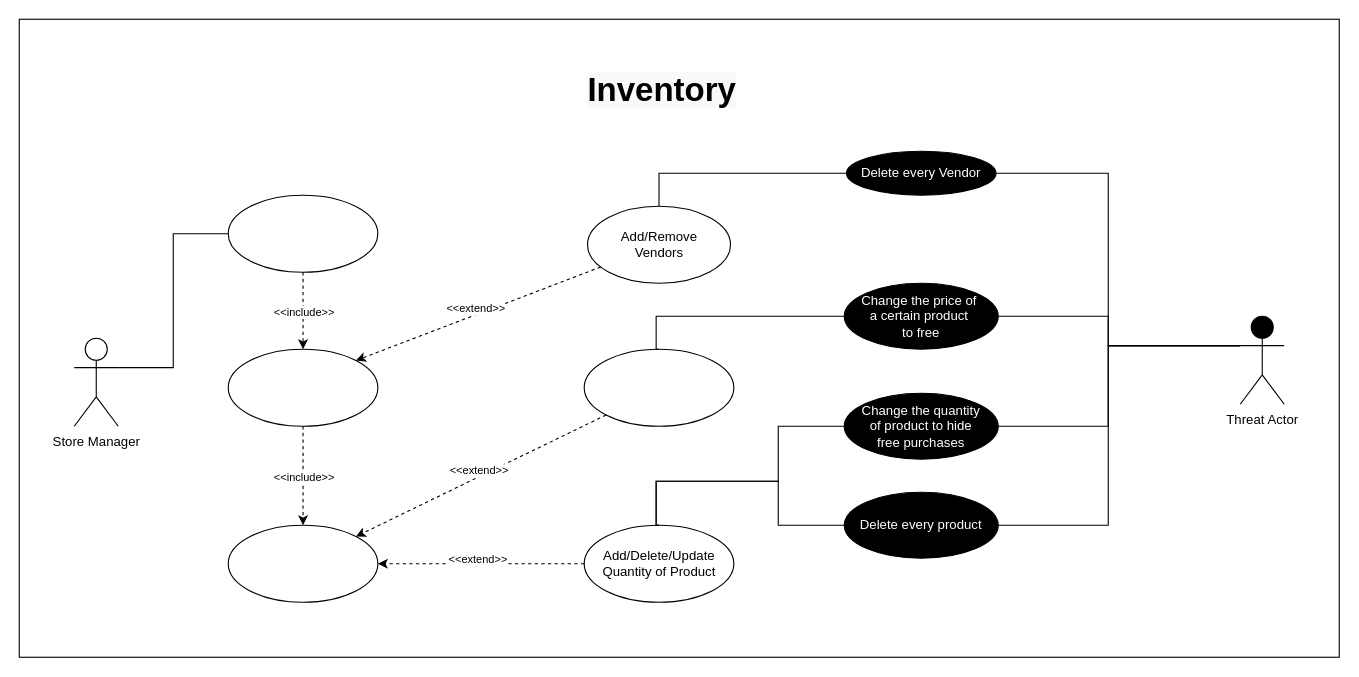
This 1359x677 diagram has some shape labels left out. The box of each missing label's shape, as (x1, y1, x2, y2) in pixels:
Change the Price of product: (583, 348, 734, 426)
Number of Product each Vendor has: (227, 524, 378, 602)
View All Vendors and Products: (227, 194, 378, 272)
View Current Vendors: (227, 348, 378, 426)
